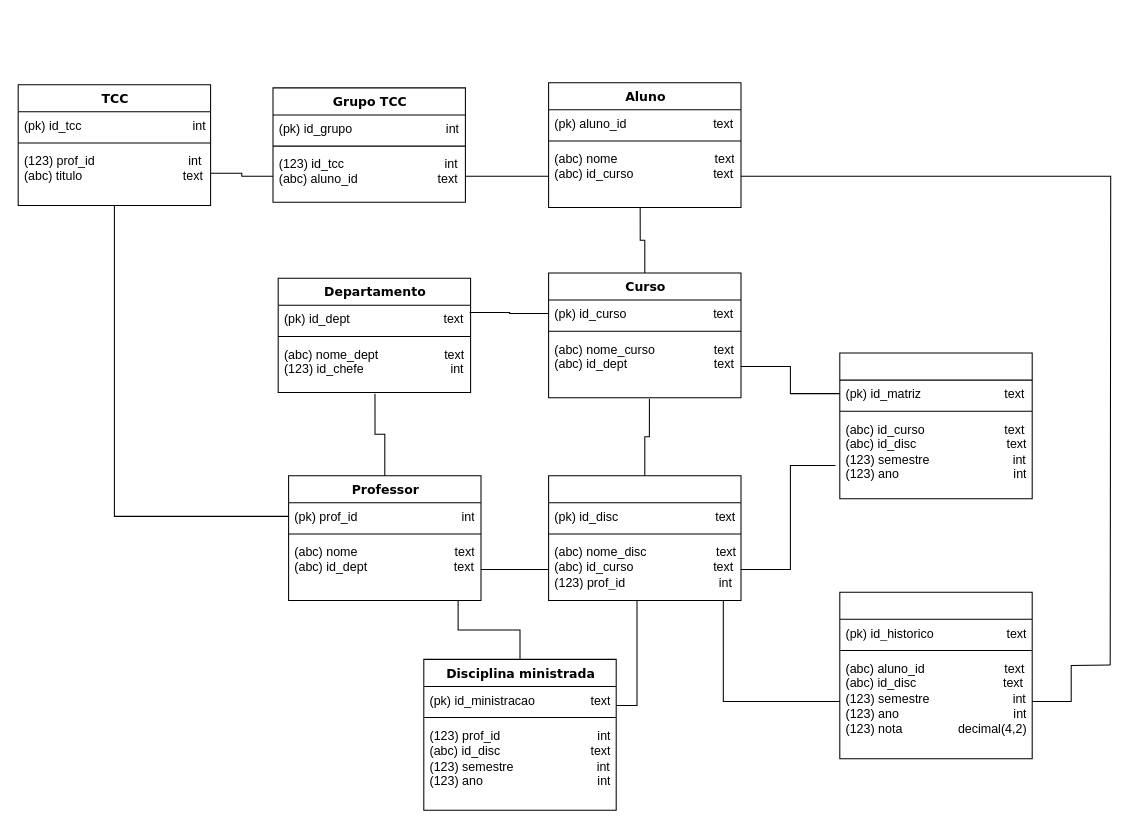
Some shapes in this 1130 by 828 pixel diagram are drawn without their labels. The shapes that lost their labels are listed below. From the top down, each one's box as (x1, y1, x2, y2) in pixels, then its label:
(839, 352, 1032, 499): Matriz curricular
(548, 475, 741, 601): Disciplinas
(839, 591, 1032, 759): Histórico escolar
